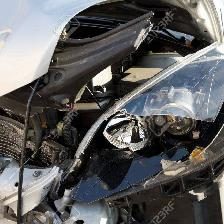broken_light: (70, 43, 223, 203)
